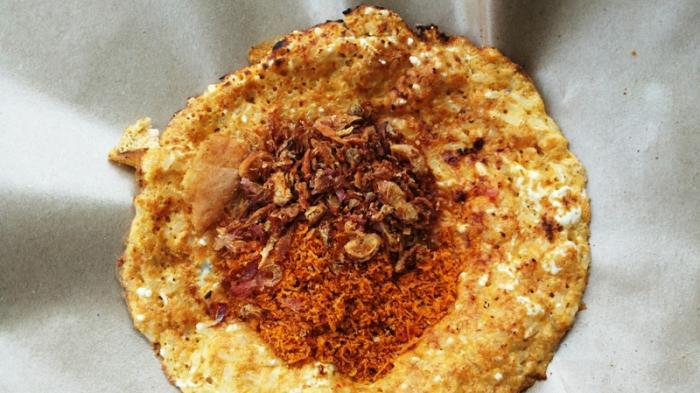kerak_telor: (118, 5, 591, 393)
